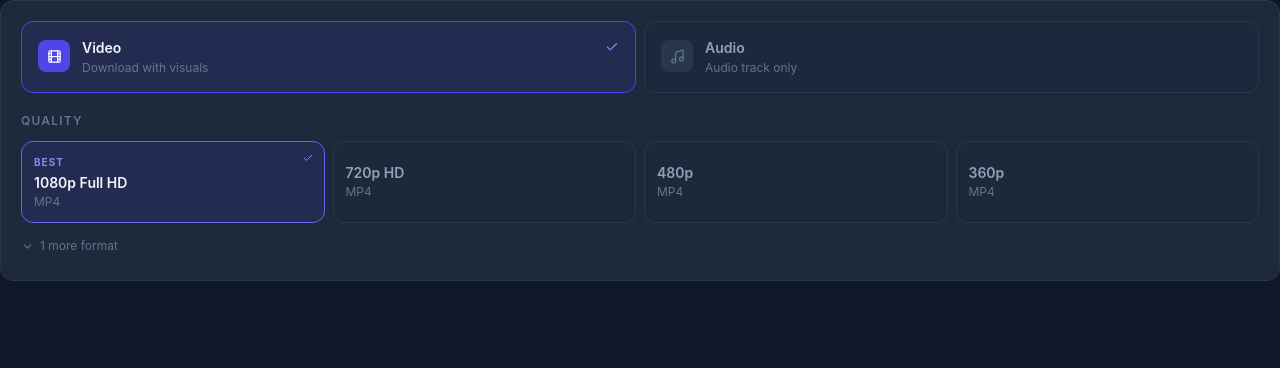
Scenario: FormatSelector — advanced toggle › expands to show all formats when the toggle is clicked
Click the button "1 more format" at (69,246), box x1=21 y1=238 x2=118 y2=254
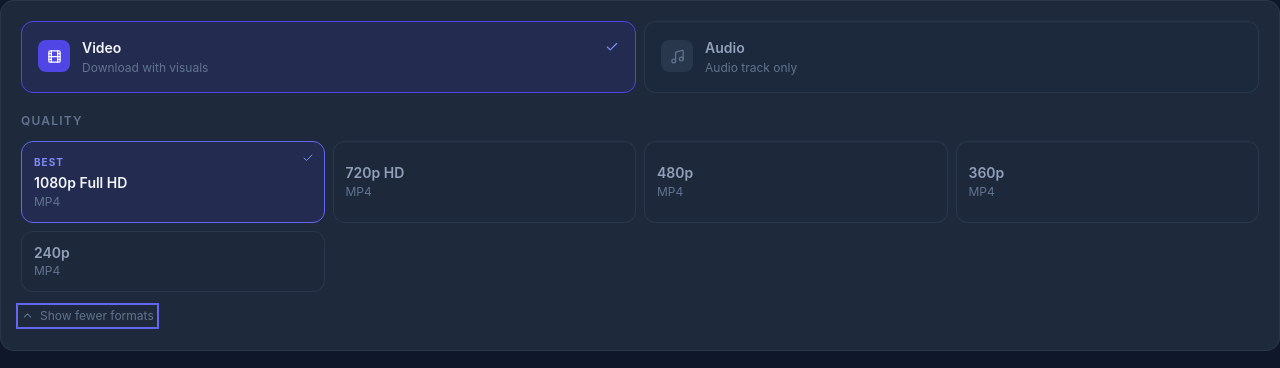
Expected: the radio button labelled "240p mp4" is shown, x1=21 y1=230 x2=324 y2=292
